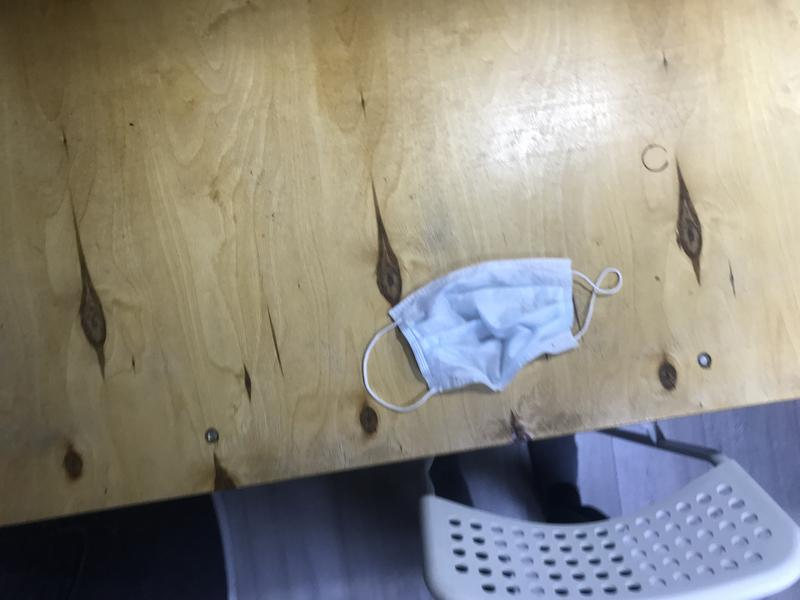medical_mask: (361, 258, 625, 413)
